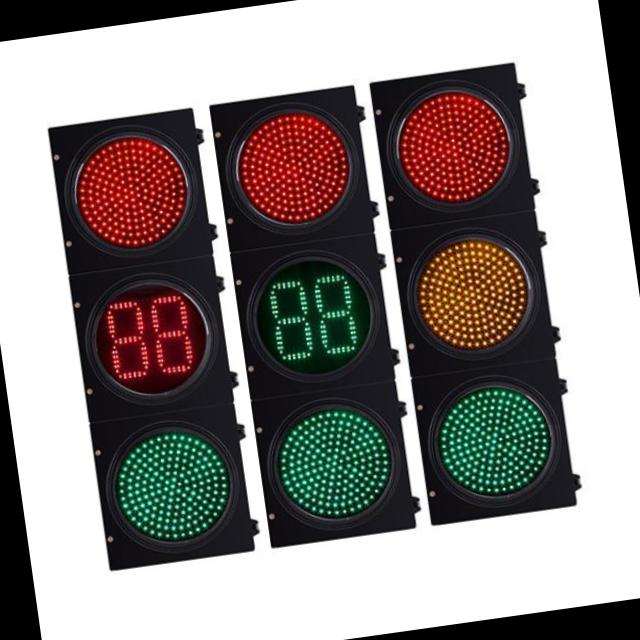green-lights: (433, 381, 558, 504), (272, 404, 394, 526), (114, 428, 236, 548)
red-lights: (392, 83, 518, 209), (233, 107, 357, 230), (70, 130, 194, 252)
yellow-lights: (413, 236, 532, 354)
